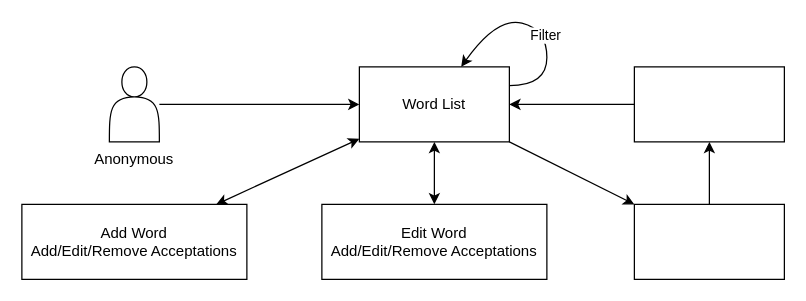
Some shapes in this 806 by 301 pixel diagram are drawn without their labels. Each missing label, with the centre of its shape:
"Confirm" goes at (708,104).
"Remove Word" goes at (708,241).
